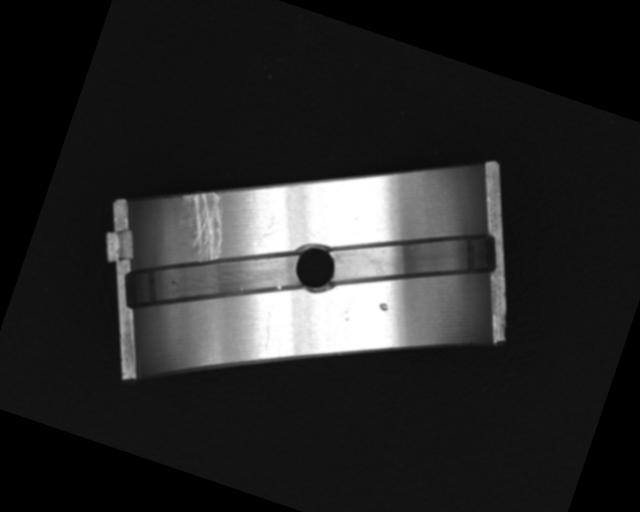bruise: (377, 300, 391, 314)
gap: (120, 208, 308, 357), (324, 190, 501, 324)
hole: (289, 240, 341, 296)
nick: (254, 312, 279, 354)
scratch: (167, 183, 239, 266)
